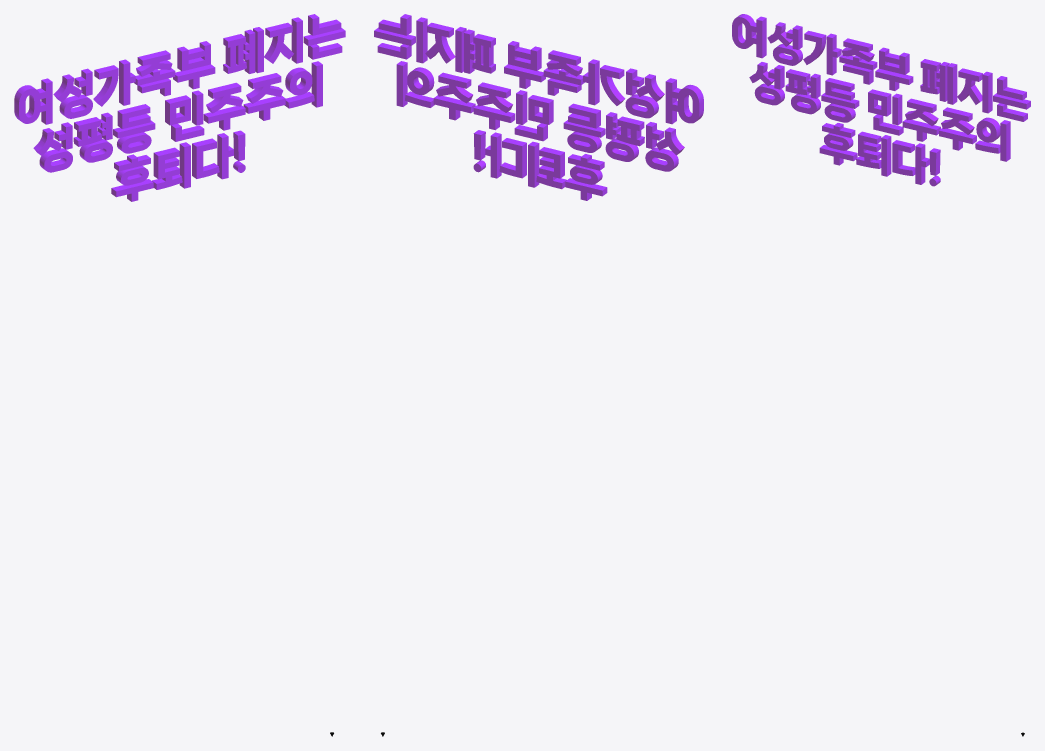
File: yeo2.glb
3 views of the same model, side by side, from view 1: azimuth 30°, elevation 25°; view 2: azimuth 150°, elevation 25°; view 3: azimuth 330°, elevation 25° (orthographic). The views are drawn at different scales.
Visible parts, largest first — view 1: Body10, Body63, Body64, Body35, Body45, Body17, Body53, Body52, Body54, Body21, Body22, Body12 (+11 smaller); view 2: Body10, Body63, Body64, Body35, Body45, Body17, Body52, Body53, Body54, Body21, Body12, Body38 (+11 smaller); view 3: Body10, Body63, Body64, Body17, Body45, Body52, Body53, Body35, Body54, Body22, Body38, Body21 (+3 smaller).
Part boxes in pixels (x1,y1,x2,y2): Body10: [14, 78, 52, 124]; Body63: [152, 147, 182, 189]; Body64: [177, 41, 210, 71]; Body35: [223, 34, 246, 73]; Body45: [192, 138, 219, 178]; Body17: [264, 22, 293, 63]; Body53: [206, 82, 243, 113]; Body52: [246, 73, 283, 103]; Body54: [165, 95, 190, 125]; Body21: [73, 117, 102, 146]; Body22: [117, 104, 150, 128]; Body12: [93, 65, 118, 106]; Body10: [665, 78, 703, 124]; Body63: [536, 147, 566, 189]; Body64: [508, 41, 541, 70]; Body35: [472, 34, 495, 73]; Body45: [499, 138, 526, 178]; Body17: [425, 22, 455, 63]; Body52: [436, 72, 472, 103]; Body53: [476, 82, 512, 112]; Body54: [528, 95, 553, 124]; Body21: [616, 116, 644, 146]; Body12: [600, 65, 625, 105]; Body38: [546, 50, 582, 76]; Body10: [732, 14, 766, 58]; Body63: [856, 131, 881, 168]; Body64: [879, 47, 909, 74]; Body17: [957, 68, 982, 104]; Body45: [892, 140, 915, 175]; Body52: [941, 107, 974, 134]; Body53: [905, 98, 938, 125]; Body35: [920, 59, 940, 94]; Body54: [868, 89, 891, 116]; Body22: [825, 78, 854, 100]; Body38: [841, 38, 874, 61]; Body21: [785, 69, 810, 95].
Size of the model in its own units: 0.9094 by 1.94 by 0.0279.
